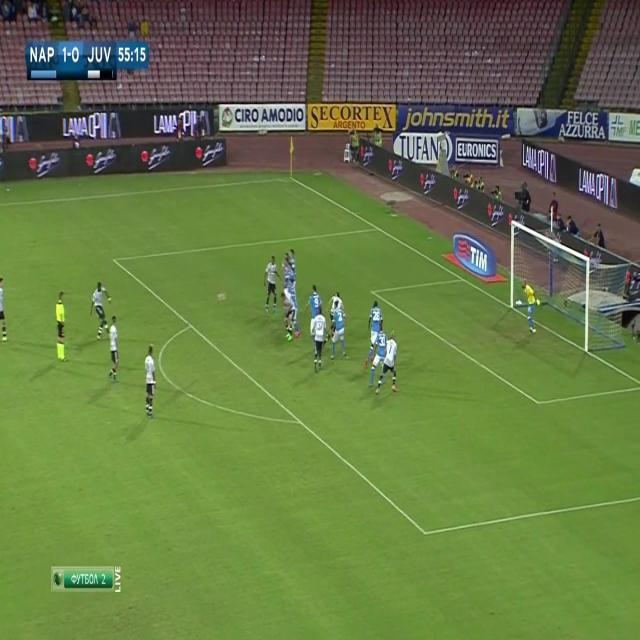Ball: (216, 287, 228, 306)
Goalkeeper: (515, 277, 544, 338)
Player: (374, 326, 401, 397), (88, 276, 114, 343), (362, 298, 385, 371), (262, 254, 283, 319), (368, 325, 390, 386), (329, 300, 348, 362), (312, 304, 328, 375), (144, 341, 158, 420), (106, 312, 121, 384), (282, 284, 298, 344), (302, 282, 324, 316), (0, 273, 9, 346)
Referee: (55, 287, 68, 363)
